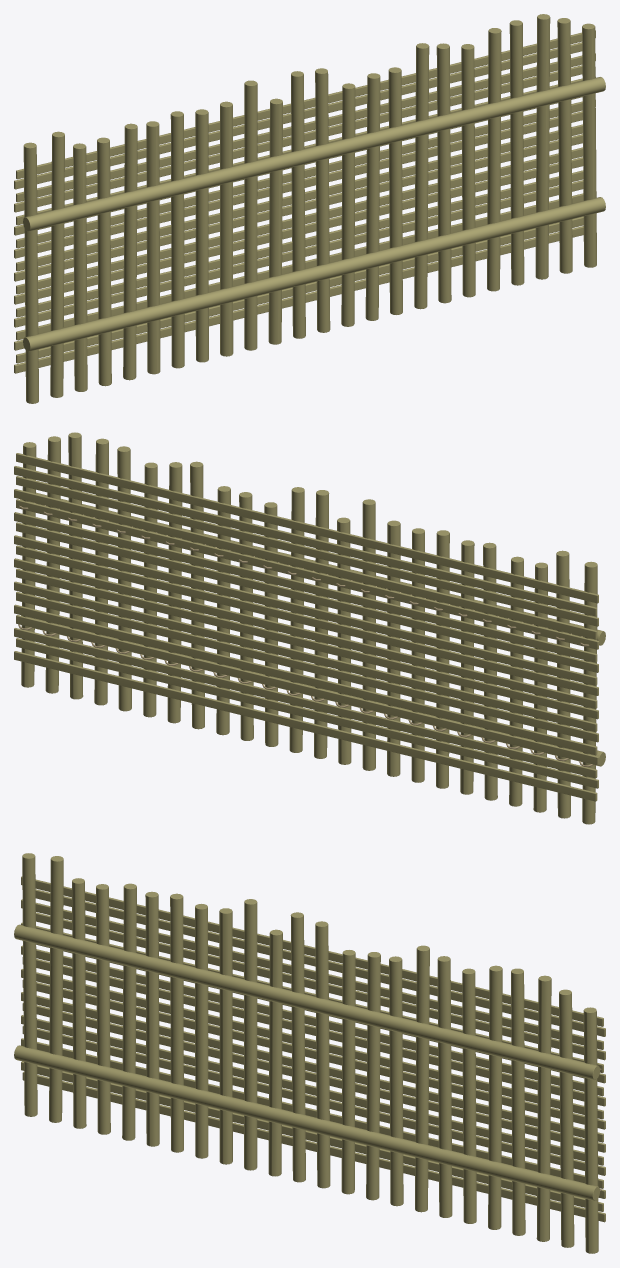
The model's file is FenceSection.fbx.
The picture shows the model from 3 angles, top to bottom: view 1: azimuth 30°, elevation 25°; view 2: azimuth 150°, elevation 25°; view 3: azimuth 330°, elevation 25°; orthographic projection.
Visible parts, largest first — view 1: FenceWingRight_NW_Bamboo.001; view 2: FenceWingRight_NW_Bamboo.001, FenceWingRight_NW_Rope.001; view 3: FenceWingRight_NW_Bamboo.001.
Part boxes in pixels (x1,y1,x2,y2): FenceWingRight_NW_Bamboo.001: (14,14,605,403); FenceWingRight_NW_Bamboo.001: (14,432,605,824); FenceWingRight_NW_Rope.001: (18,499,596,766); FenceWingRight_NW_Bamboo.001: (14,853,605,1253).
Size of the model in its own units: 3.58 by 1.57 by 0.143.
